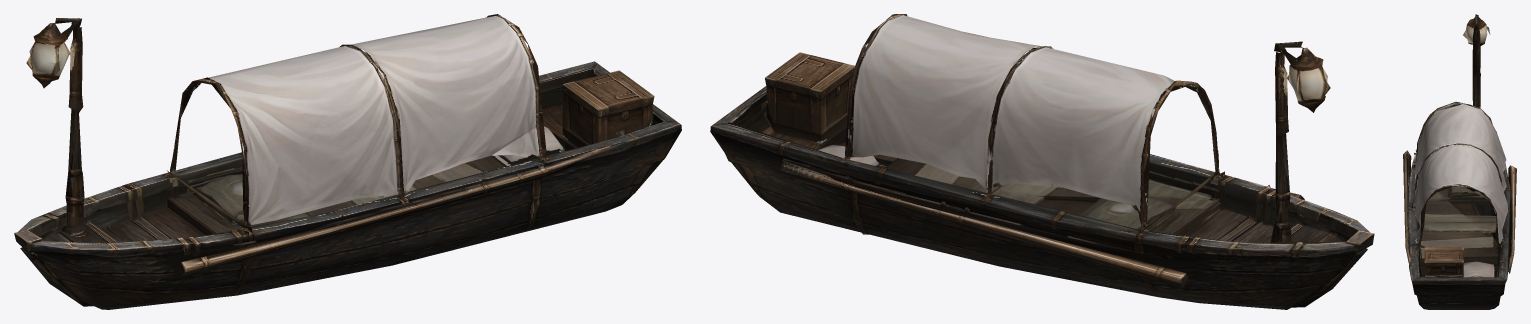
File: act1_extras_v1_gentle_boat.glb
3 views of the same model, side by side, from view 1: azimuth 30°, elevation 25°; view 2: azimuth 150°, elevation 25°; view 3: azimuth 270°, elevation 25° (orthographic). The views are drawn at different scales.
Visible parts, largest first — view 1: A17_3_gentle_boat; view 2: A17_3_gentle_boat; view 3: A17_3_gentle_boat.
Boxes of the visible parts, bbox=[...] form: A17_3_gentle_boat: bbox=[14, 14, 681, 309]; A17_3_gentle_boat: bbox=[710, 14, 1374, 309]; A17_3_gentle_boat: bbox=[1403, 14, 1516, 309].
Size of the model in its own units: 0.9985 by 0.4448 by 0.2866.
1 material, 1 textured.
